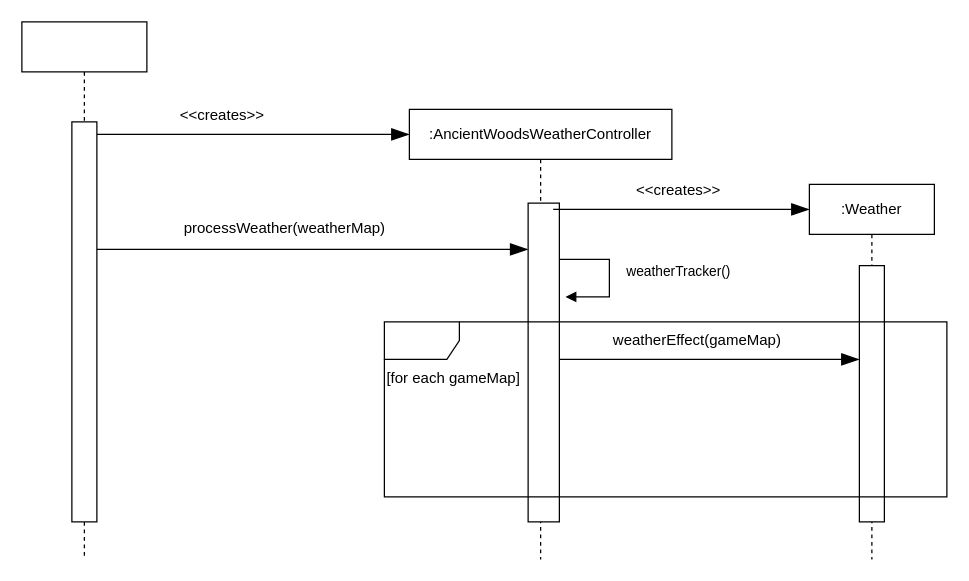
This 969x581 diagram has some shape labels left out. The shapes that lost their labels are listed below. From the top down, each one's box as (x1, y1, x2, y2) in pixels, then its label:
(21, 21, 147, 559): :Abxervyer
(383, 321, 947, 497): Loop
